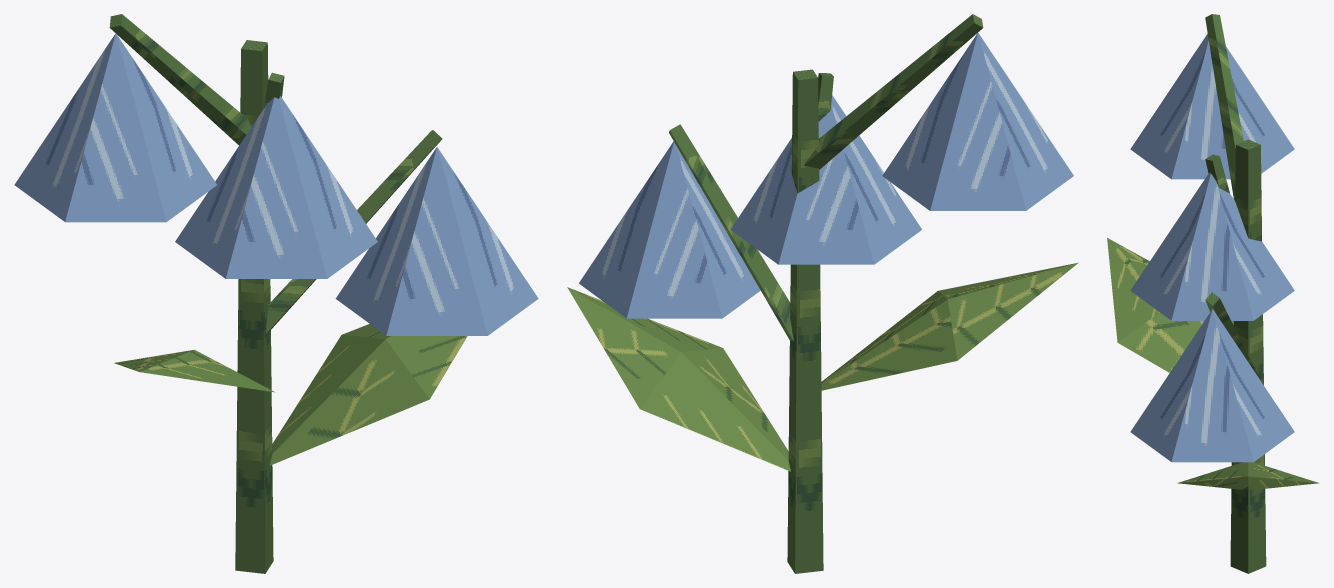
File: flor-campanula-v01.gltf
The picture shows the model from 3 angles, left to right: view 1: azimuth 30°, elevation 25°; view 2: azimuth 150°, elevation 25°; view 3: azimuth 270°, elevation 25°; orthographic projection. The views are drawn at different scales.
Parts seen in each view (by area): view 1: sinos, hastes, folhas; view 2: sinos, folhas, hastes; view 3: sinos, hastes, folhas.
Part boxes in pixels (x1,y1,x2,y2): sinos: [14, 33, 538, 335]; hastes: [109, 14, 442, 573]; folhas: [114, 324, 467, 465]; sinos: [579, 32, 1073, 318]; folhas: [567, 262, 1078, 471]; hastes: [669, 14, 983, 573]; sinos: [1130, 34, 1294, 462]; hastes: [1205, 14, 1266, 573]; folhas: [1107, 238, 1319, 489].
Size of the model in its own units: 0.6396 by 0.7572 by 0.2975.
Materials: 1 (1 with a texture image).
